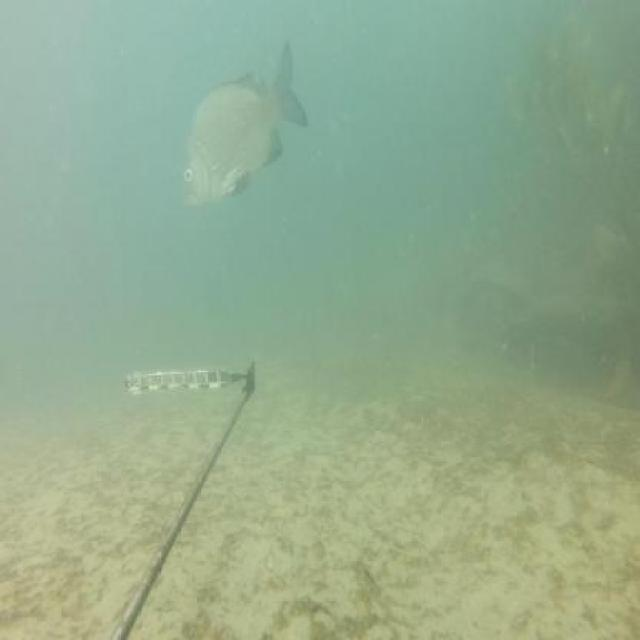acanthopagrus_palmaris: (177, 39, 309, 212)
